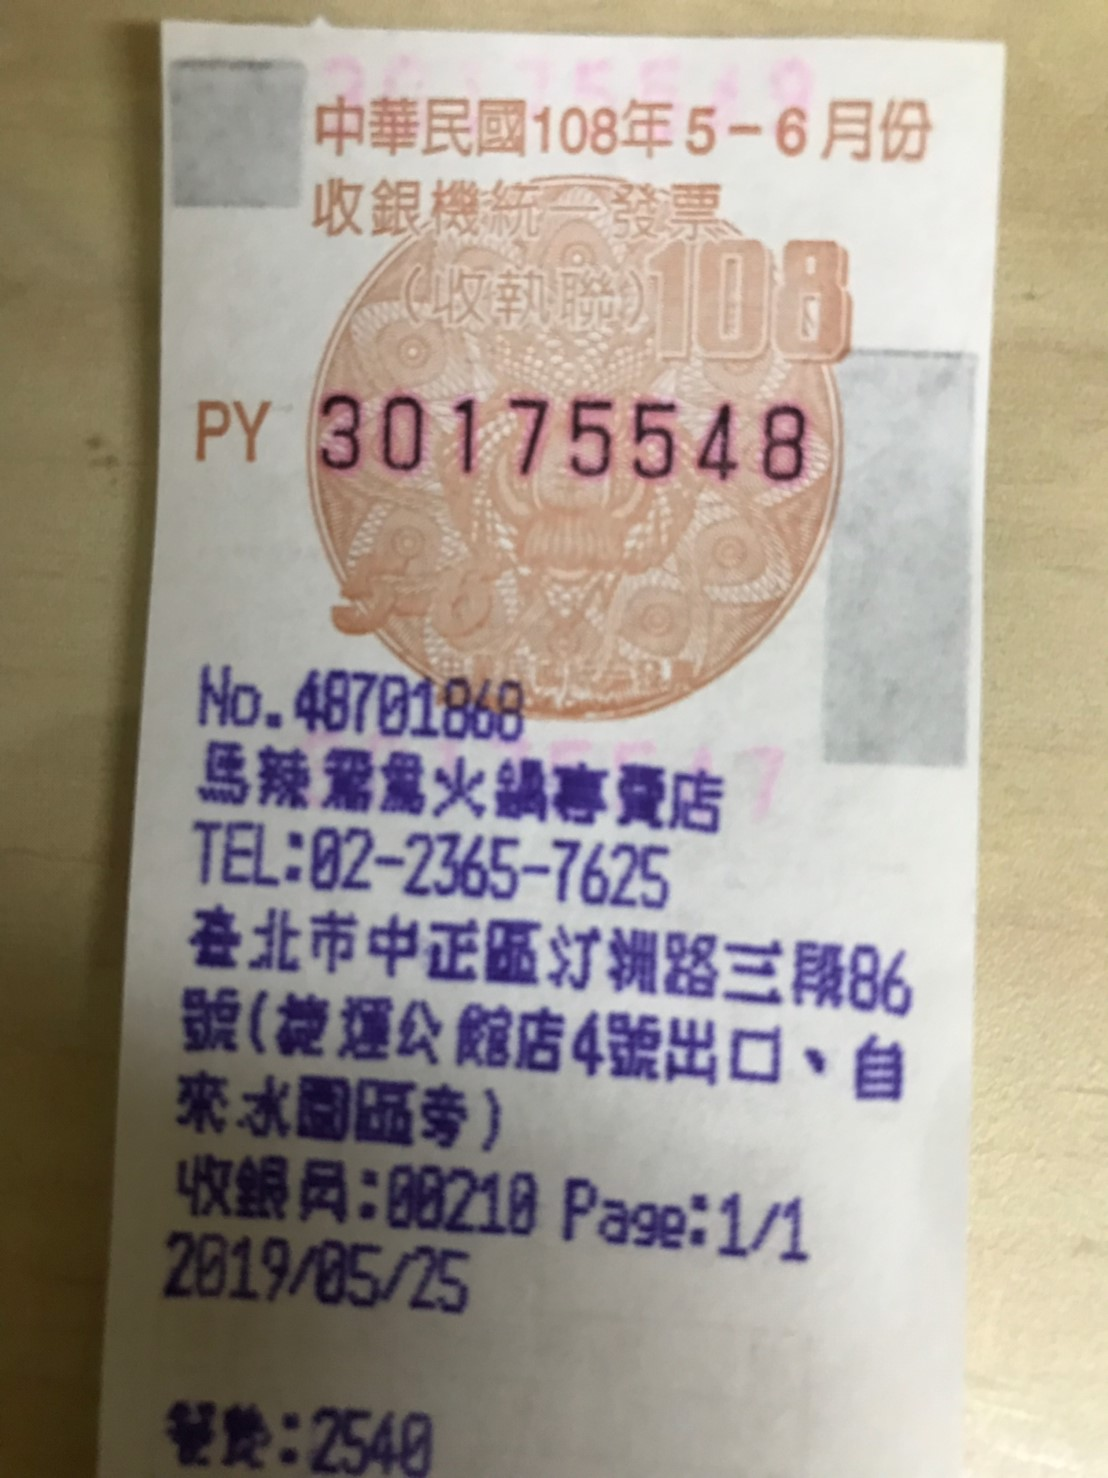Date_Old: (533, 91, 933, 161)
Number_Old: (312, 388, 812, 486)
